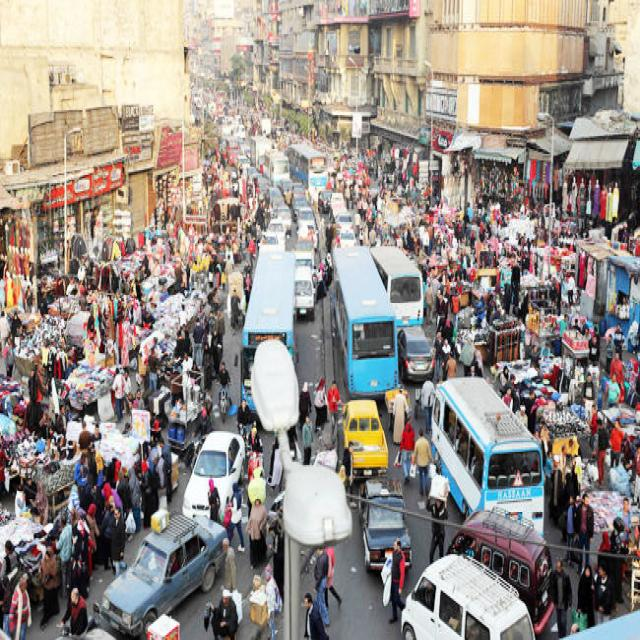Bus: (430, 374, 544, 538), (329, 243, 399, 399), (240, 243, 298, 415)
Car: (92, 510, 228, 637), (181, 429, 245, 525), (359, 478, 412, 572)
Pickup: (341, 399, 388, 478)
